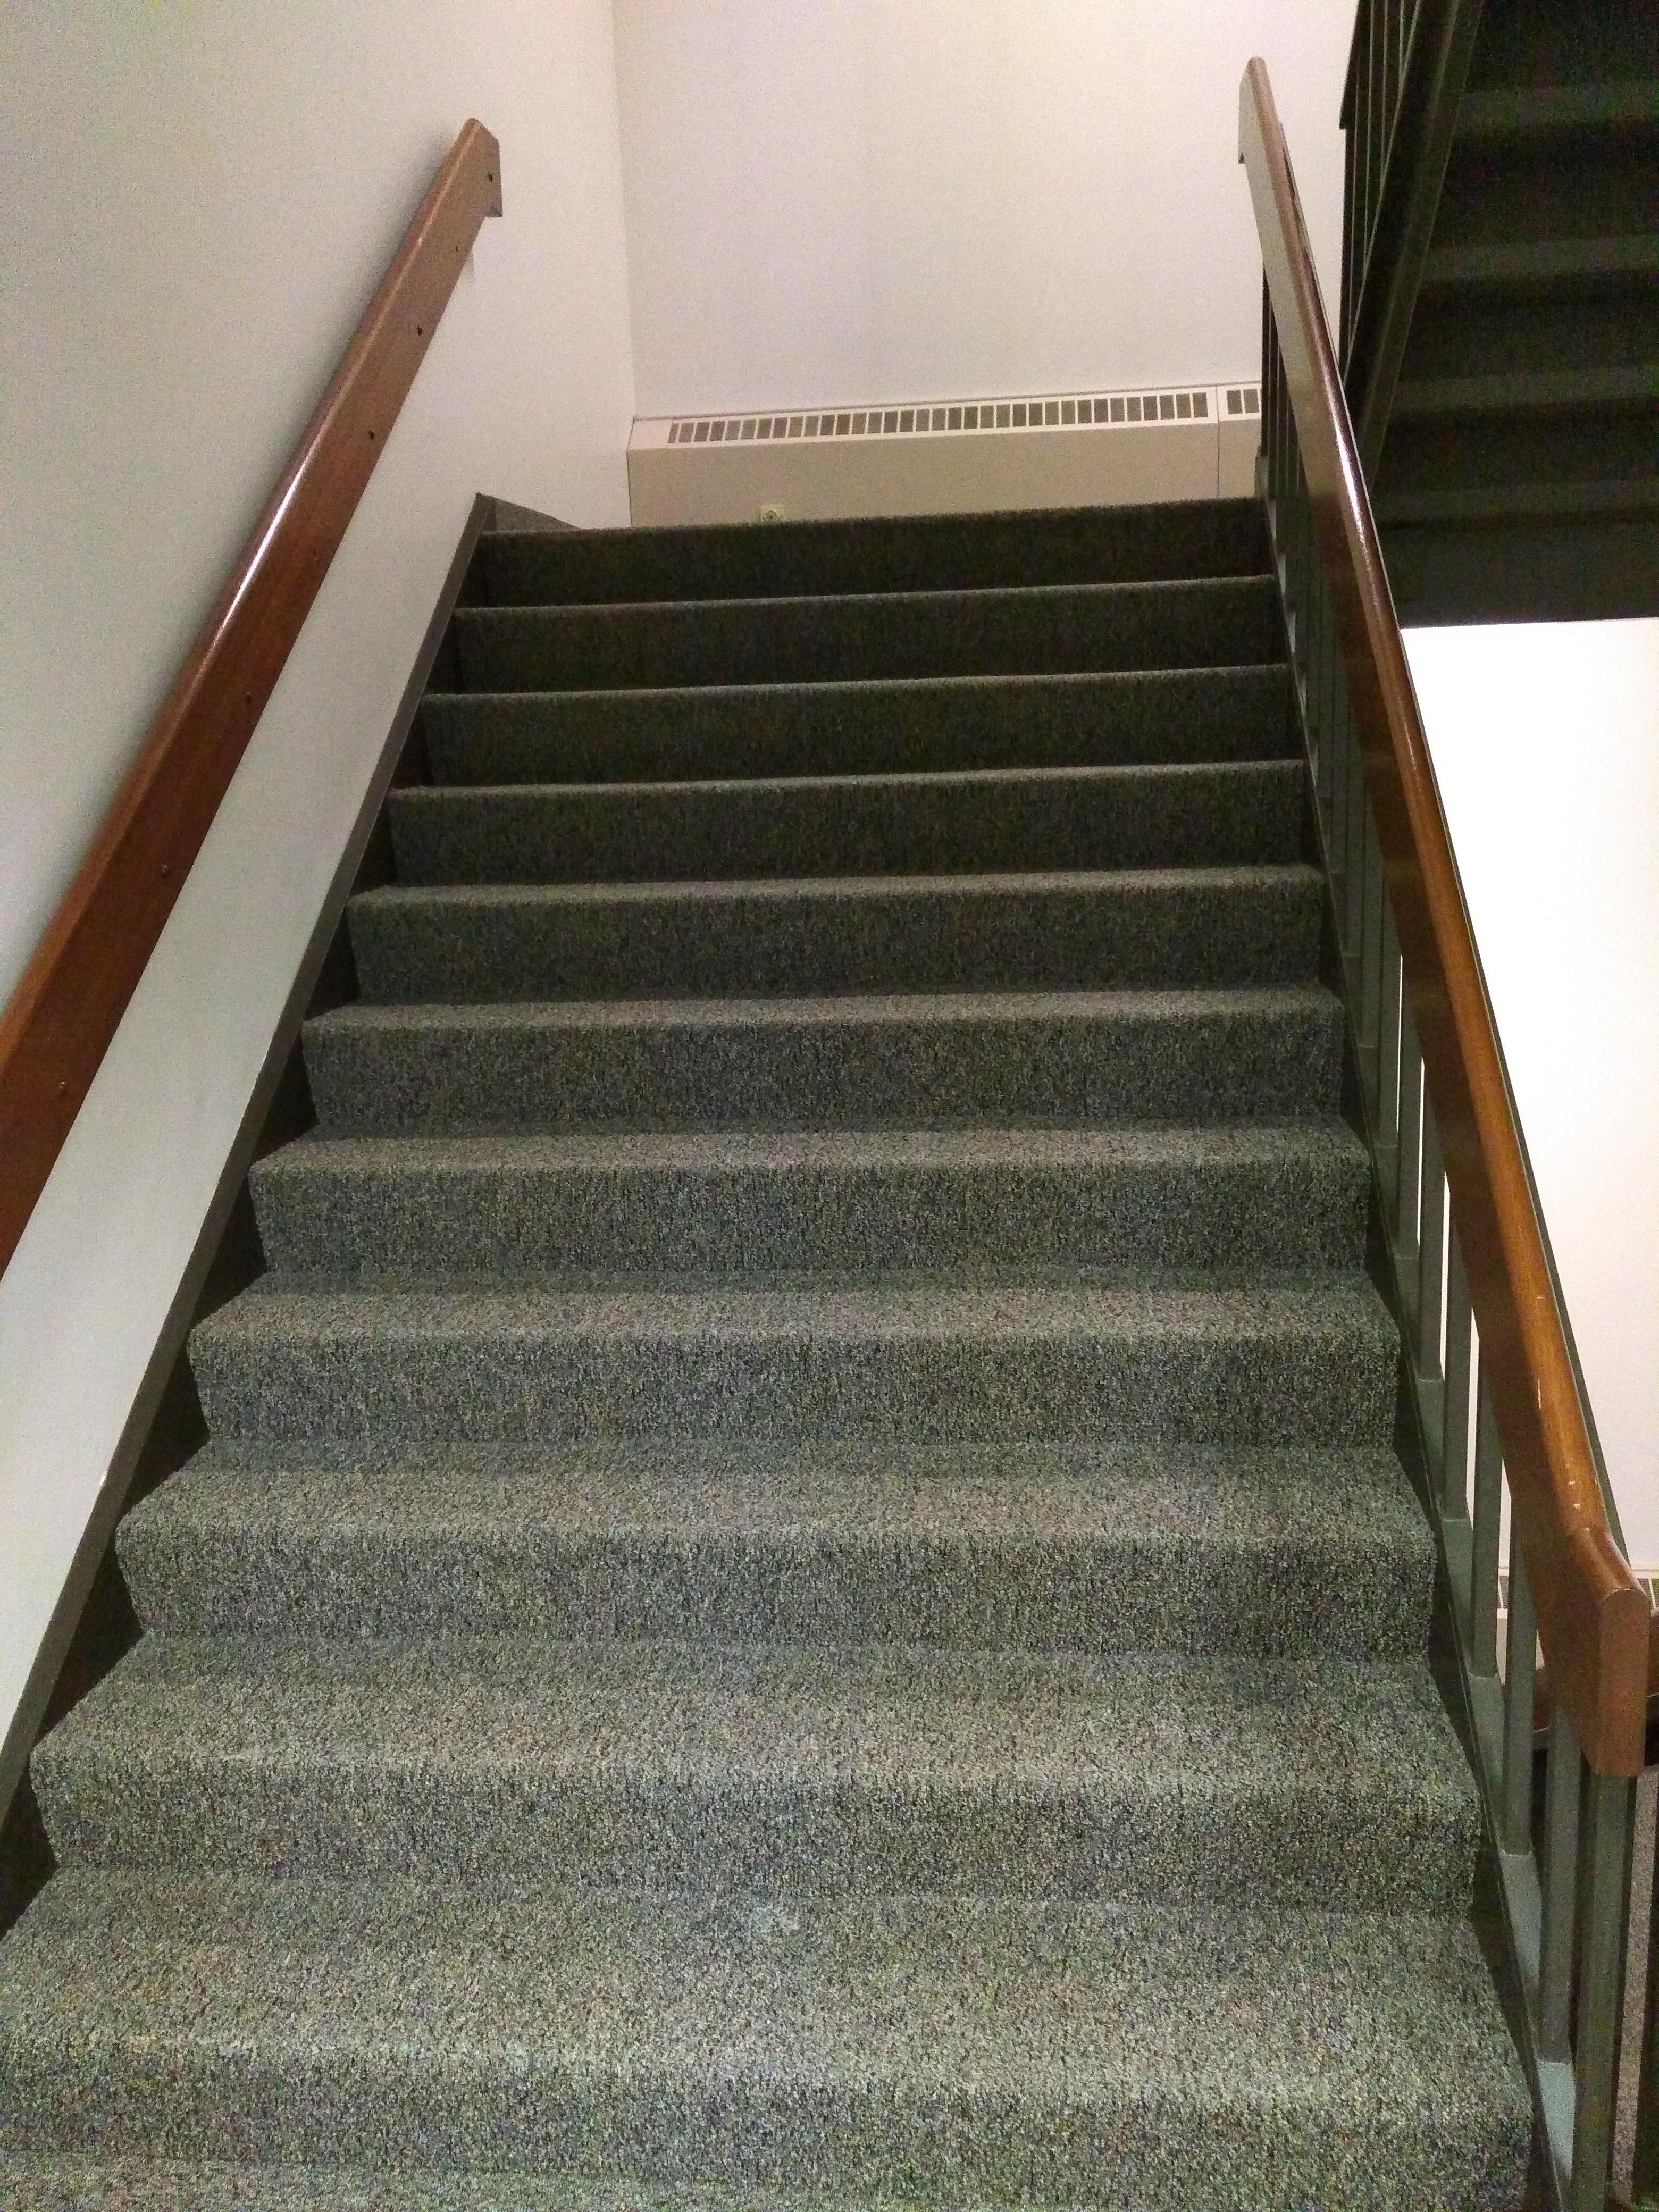stairs_up: (5, 484, 1553, 2163)
